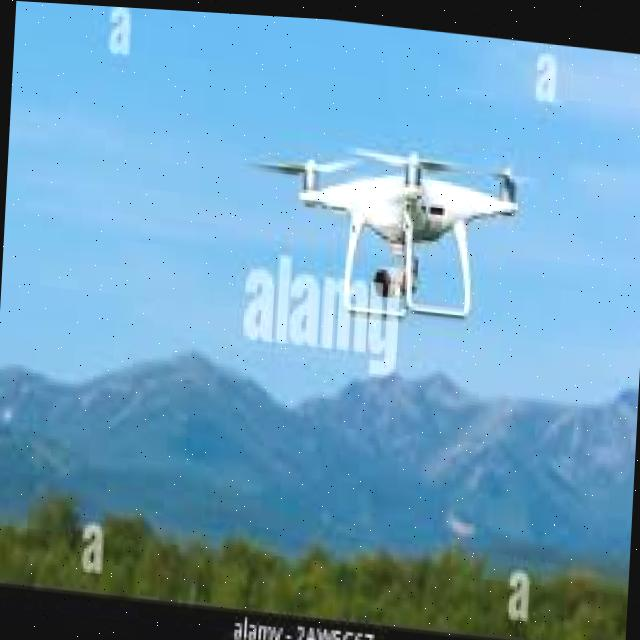drone: (249, 106, 537, 355)
